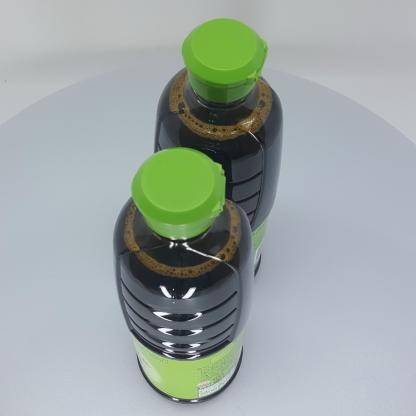-------------: (113, 148, 254, 404), (153, 18, 283, 285)
